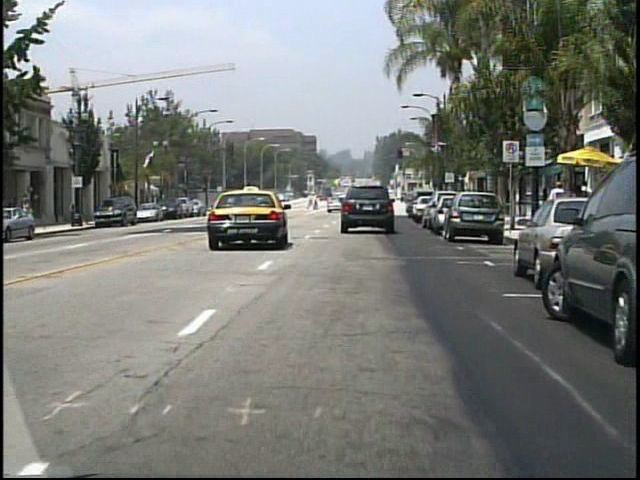person: (547, 179, 569, 213), (22, 196, 35, 230), (308, 193, 319, 212), (307, 191, 317, 211)
